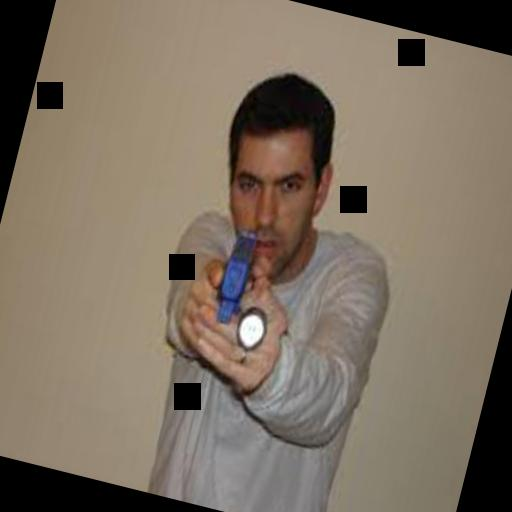Handgun: (206, 220, 266, 326)
